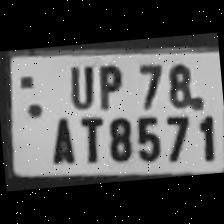1: (188, 107, 220, 163)
5: (131, 112, 164, 162)
7: (129, 59, 165, 111), (160, 110, 194, 164)
8: (160, 57, 196, 109), (102, 111, 134, 164)
A: (42, 109, 78, 166)
P: (90, 58, 127, 110)
T: (72, 112, 106, 164)
U: (62, 59, 98, 110)
